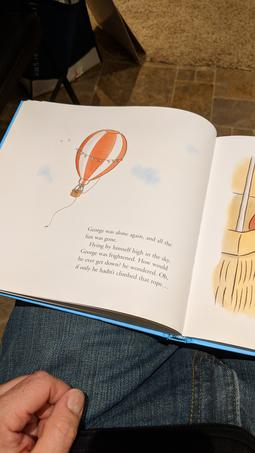text block: (70, 218, 177, 290)
